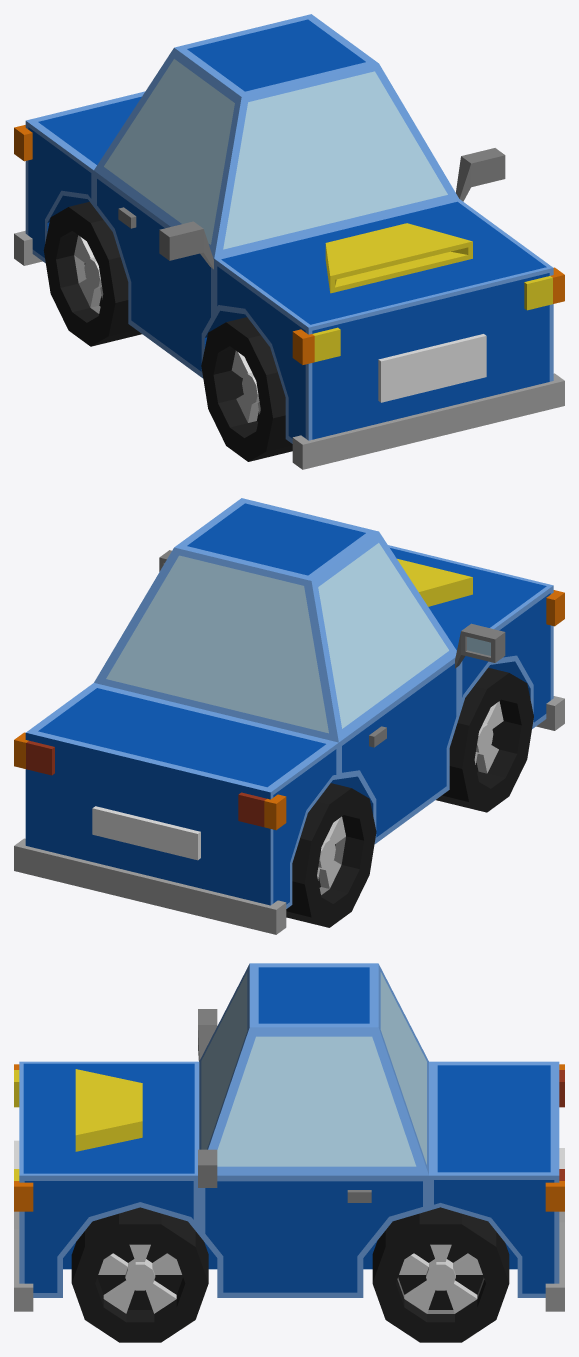
The model's file is low_poly_car.glb.
3 renders of one model, top to bottom at view 1: azimuth 30°, elevation 25°; view 2: azimuth 150°, elevation 25°; view 3: azimuth 270°, elevation 25°, orthographic. The views are drawn at different scales.
Visible parts, largest first — view 1: Car_0; view 2: Car_0; view 3: Car_0.
Boxes of the visible parts, x1,y1,x2,y2 form: Car_0: (14,14,564,469); Car_0: (14,498,564,934); Car_0: (14,963,564,1342).
Size of what is drawn, in the model's own units: 2.74 by 2.34 by 4.08.
1 material, 1 textured.
